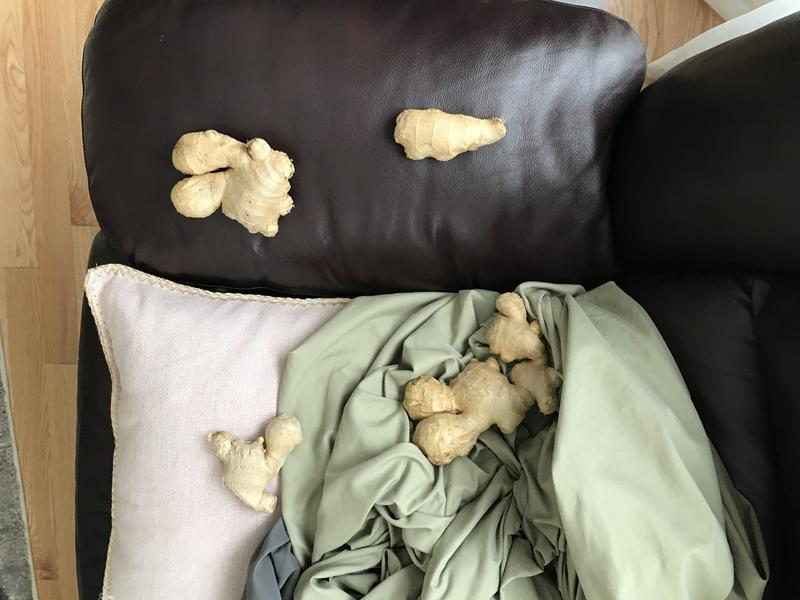ginger: (398, 288, 573, 477), (160, 116, 300, 245), (201, 408, 307, 523), (387, 98, 521, 173)
